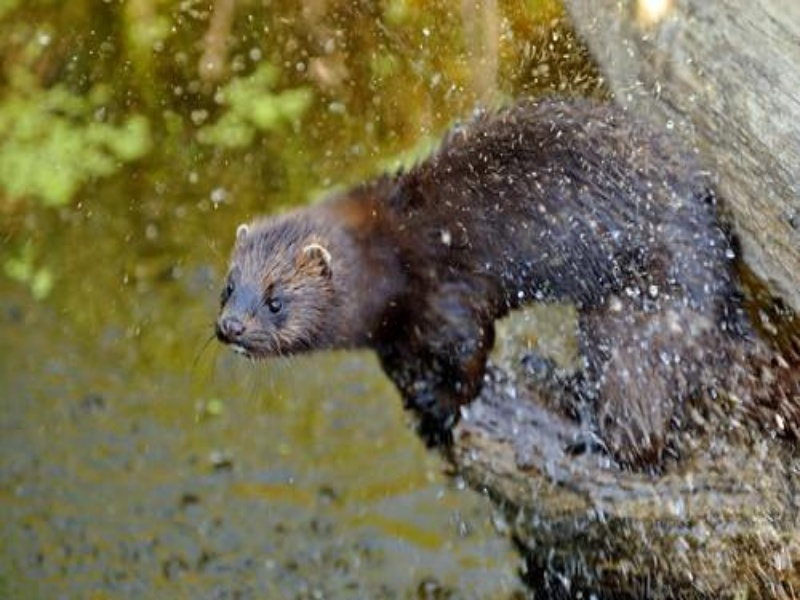minkish: (212, 94, 747, 464)
